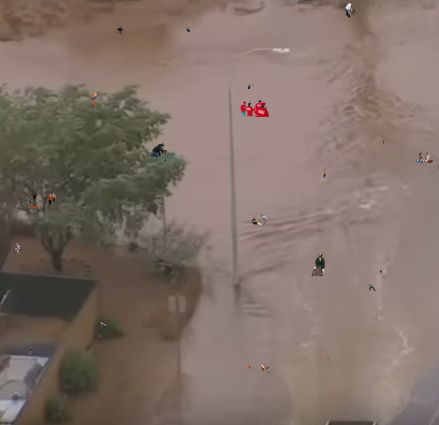Human: (309, 253, 326, 283), (27, 191, 56, 208), (240, 100, 269, 117), (146, 141, 174, 158), (248, 362, 270, 373), (345, 2, 359, 19), (416, 152, 433, 164), (252, 215, 267, 226), (12, 243, 22, 257), (90, 90, 97, 108), (26, 159, 34, 167), (367, 284, 376, 291), (117, 26, 124, 34), (322, 169, 327, 178), (100, 322, 106, 328), (248, 84, 254, 89), (185, 27, 190, 32), (29, 347, 32, 355), (327, 356, 330, 362), (380, 270, 383, 274), (383, 139, 384, 144), (100, 185, 102, 187), (165, 159, 166, 162)
